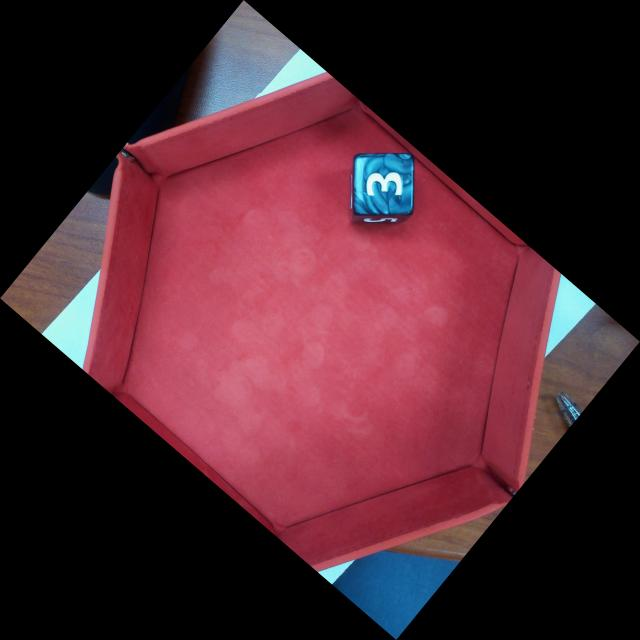dice: (355, 155, 412, 218)
